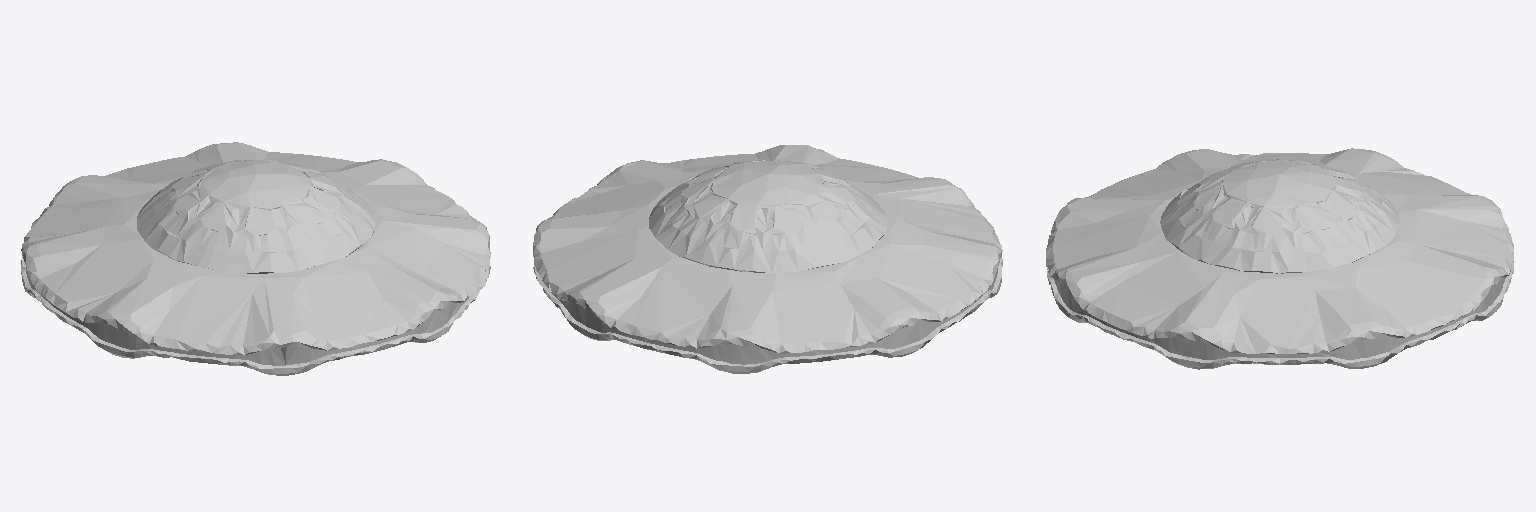
File: frame_046.obj
3 views of the same model, side by side, from view 1: azimuth 30°, elevation 25°; view 2: azimuth 150°, elevation 25°; view 3: azimuth 270°, elevation 25° (orthographic).
Parts seen in each view (by area): view 1: 13884_UFO_Saucer_v1_l2; view 2: 13884_UFO_Saucer_v1_l2; view 3: 13884_UFO_Saucer_v1_l2.
Boxes of the visible parts, <box> form: 13884_UFO_Saucer_v1_l2: <box>21,142,490,375</box>; 13884_UFO_Saucer_v1_l2: <box>533,145,1002,373</box>; 13884_UFO_Saucer_v1_l2: <box>1046,148,1513,369</box>.
Bounding box in the file's own units: 12.69 × 4.88 × 12.7.